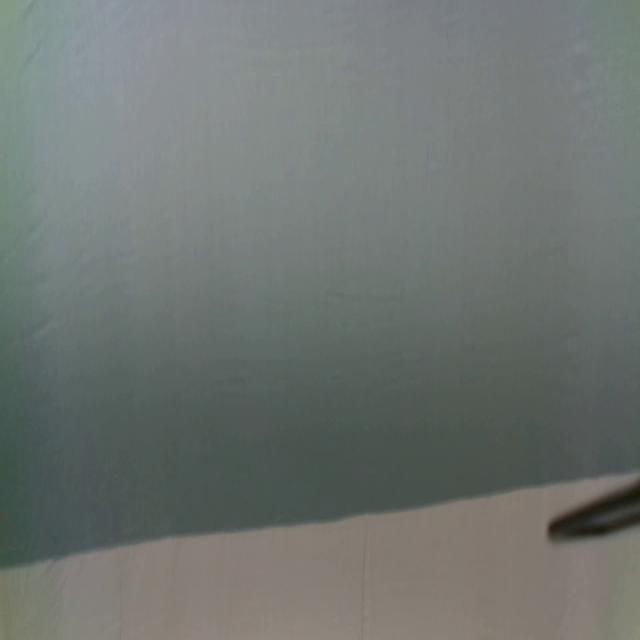crease: (359, 532, 370, 640)
